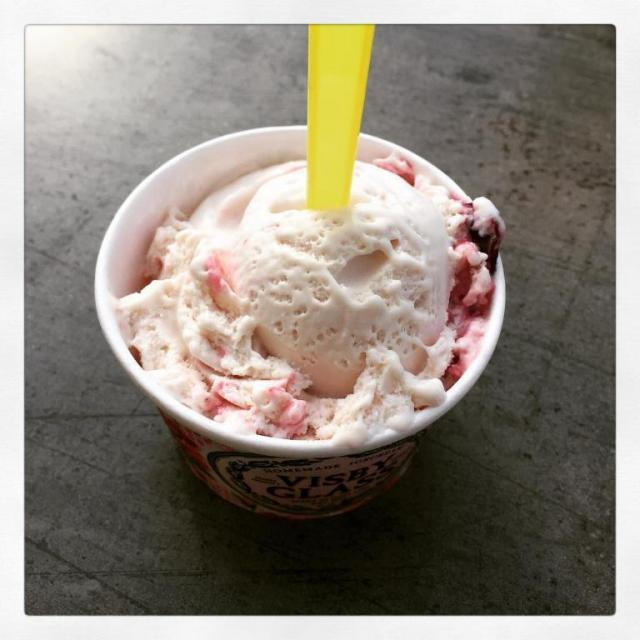Ice cream: (114, 152, 512, 442)
